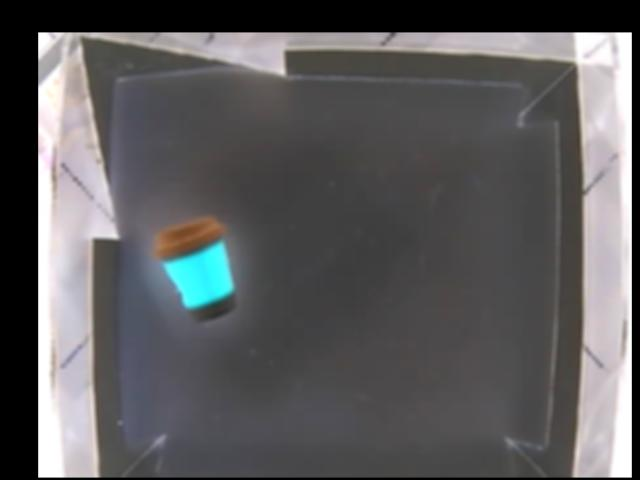Cup: (155, 216, 238, 322)
